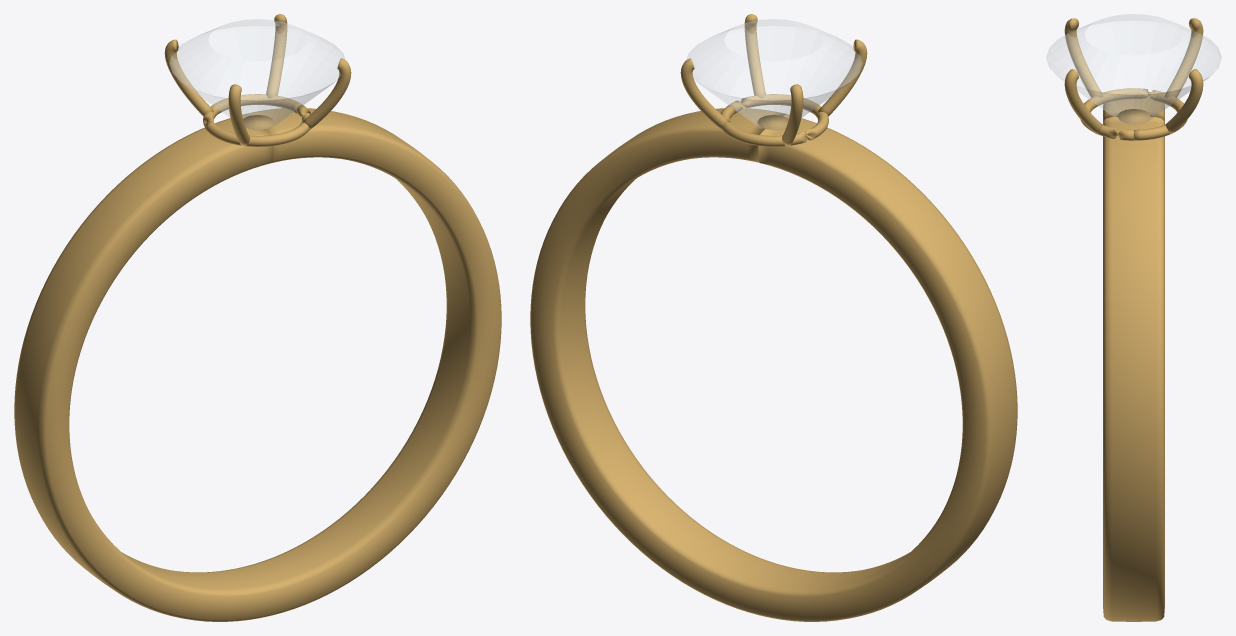
The model's file is bands-soft-square.glb.
The picture shows the model from 3 angles, left to right: view 1: azimuth 30°, elevation 25°; view 2: azimuth 150°, elevation 25°; view 3: azimuth 270°, elevation 25°; orthographic projection.
Visible parts, largest first — view 1: Band, Gem, Lower gallery, Prong.001, Prong, Prong.003, Prong.002; view 2: Band, Gem, Lower gallery, Prong.002, Prong.003, Prong, Prong.001; view 3: Band, Gem, Lower gallery, Prong.001, Prong.002, Prong, Prong.003, Head stem.
Boxes of the visible parts, x1=… form: Band: x1=14, y1=108, x2=501, y2=621; Gem: x1=169, y1=19, x2=345, y2=130; Lower gallery: x1=203, y1=94, x2=310, y2=146; Prong.001: x1=164, y1=39, x2=214, y2=116; Prong: x1=266, y1=14, x2=287, y2=98; Prong.003: x1=301, y1=58, x2=351, y2=130; Prong.002: x1=228, y1=84, x2=249, y2=146; Band: x1=530, y1=108, x2=1017, y2=621; Gem: x1=686, y1=19, x2=862, y2=130; Lower gallery: x1=720, y1=94, x2=828, y2=146; Prong.002: x1=817, y1=39, x2=867, y2=116; Prong.003: x1=744, y1=14, x2=765, y2=98; Prong: x1=680, y1=58, x2=730, y2=130; Prong.001: x1=782, y1=84, x2=803, y2=146; Band: x1=1103, y1=92, x2=1164, y2=621; Gem: x1=1046, y1=14, x2=1221, y2=124; Lower gallery: x1=1080, y1=88, x2=1187, y2=140; Prong.001: x1=1164, y1=18, x2=1203, y2=97; Prong.002: x1=1064, y1=18, x2=1103, y2=97; Prong: x1=1165, y1=69, x2=1203, y2=134; Prong.003: x1=1064, y1=69, x2=1102, y2=134; Head stem: x1=1117, y1=109, x2=1150, y2=123.
Size of the model in its own units: 19.6 by 22.94 by 6.5.
